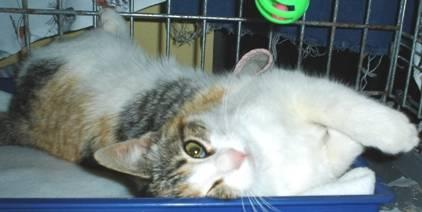cat: (6, 10, 376, 200)
